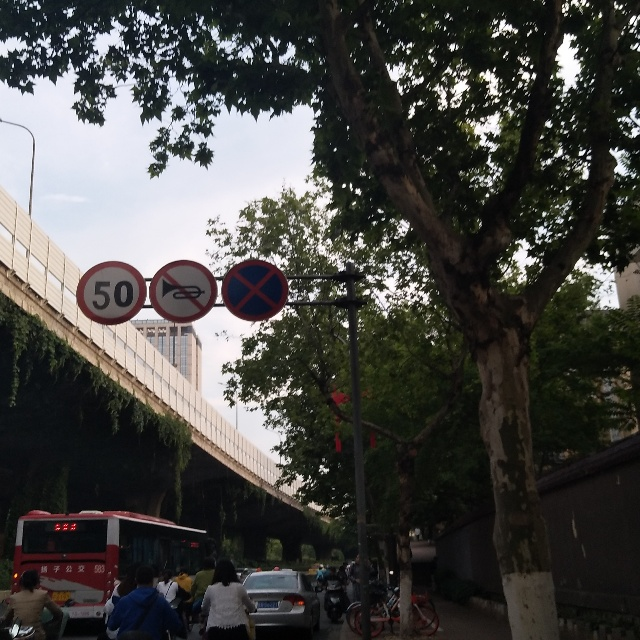nohonk: (152, 262, 212, 320)
stop: (226, 266, 287, 316)
